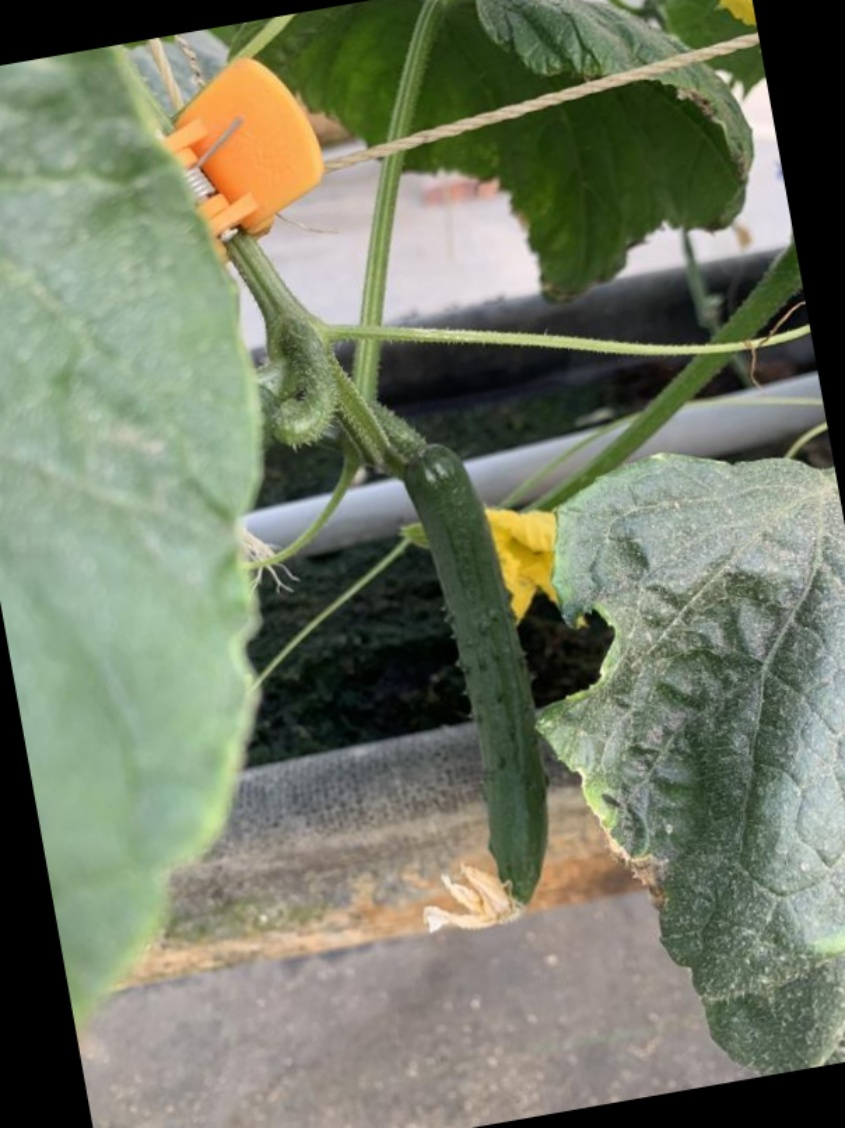mature: (403, 442, 560, 940)
